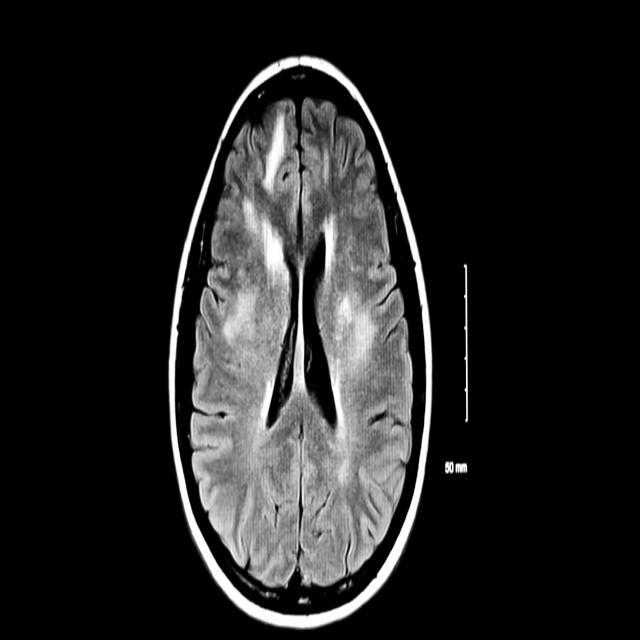notumor: (166, 56, 434, 632)
